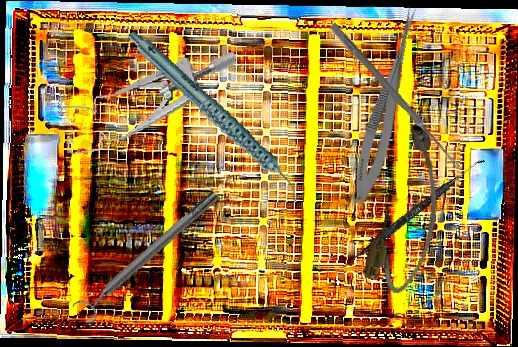Cannula: (359, 117, 461, 299)
Fixation Ring: (70, 184, 227, 326)
Handpiece: (126, 2, 304, 230)
Micro Scissor: (346, 2, 424, 208)
Spatula Surgical: (341, 153, 485, 273)
Speculum: (54, 48, 247, 157)
Surgical Spoon: (328, 22, 463, 171)
